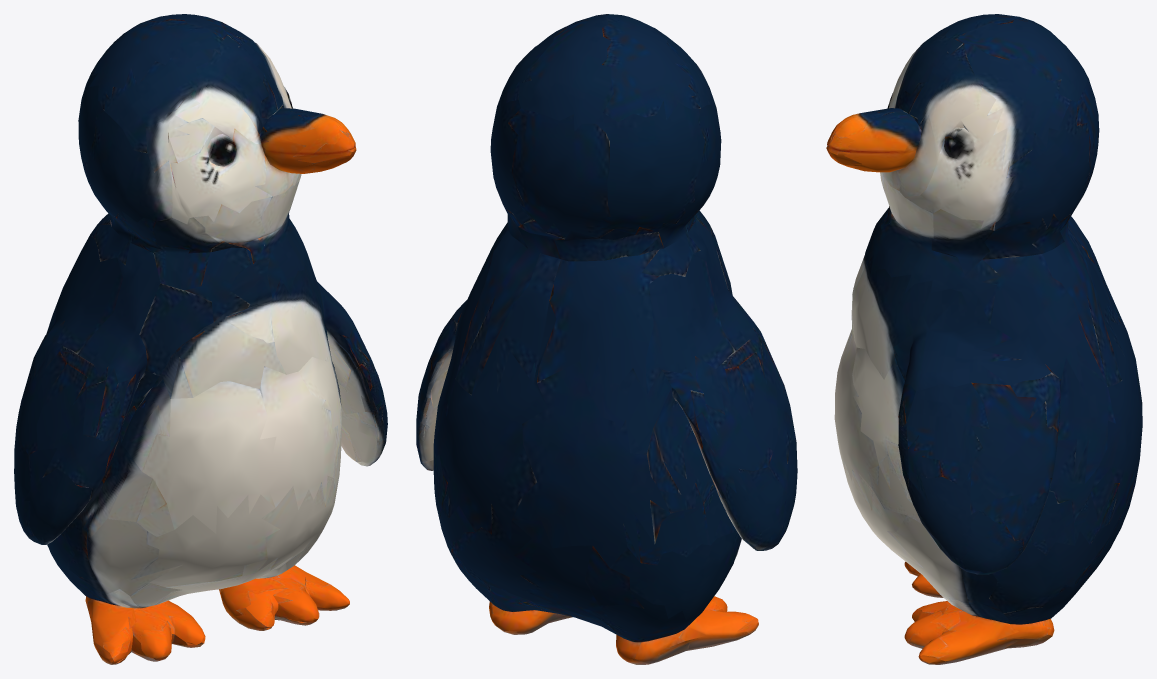
The model's file is penguin.glb.
3 views of the same model, side by side, from view 1: azimuth 30°, elevation 25°; view 2: azimuth 150°, elevation 25°; view 3: azimuth 270°, elevation 25° (orthographic). The views are drawn at different scales.
Parts seen in each view (by area): view 1: mesh_node; view 2: mesh_node; view 3: mesh_node.
Boxes of the visible parts, x1,y1,x2,y2 form: mesh_node: [14, 14, 387, 664]; mesh_node: [416, 14, 797, 664]; mesh_node: [826, 14, 1142, 664].
Size of the model in its own units: 1.15 by 1.9 by 0.9266.
Materials: 1 (1 with a texture image).
